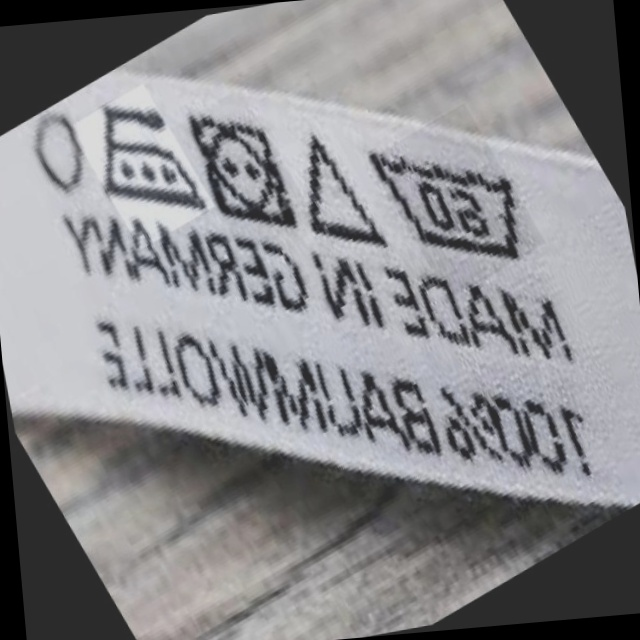60C: (364, 119, 541, 278)
bleach: (289, 121, 383, 261)
iron_high: (83, 85, 204, 229)
tumble_dry_medium: (187, 95, 297, 239)
